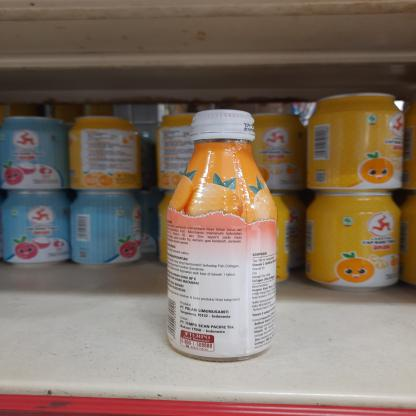keyboard: (162, 104, 283, 365)
mouse: (305, 92, 406, 190), (304, 194, 398, 290), (72, 191, 153, 272), (0, 188, 68, 276), (72, 110, 144, 190), (0, 112, 68, 192)
